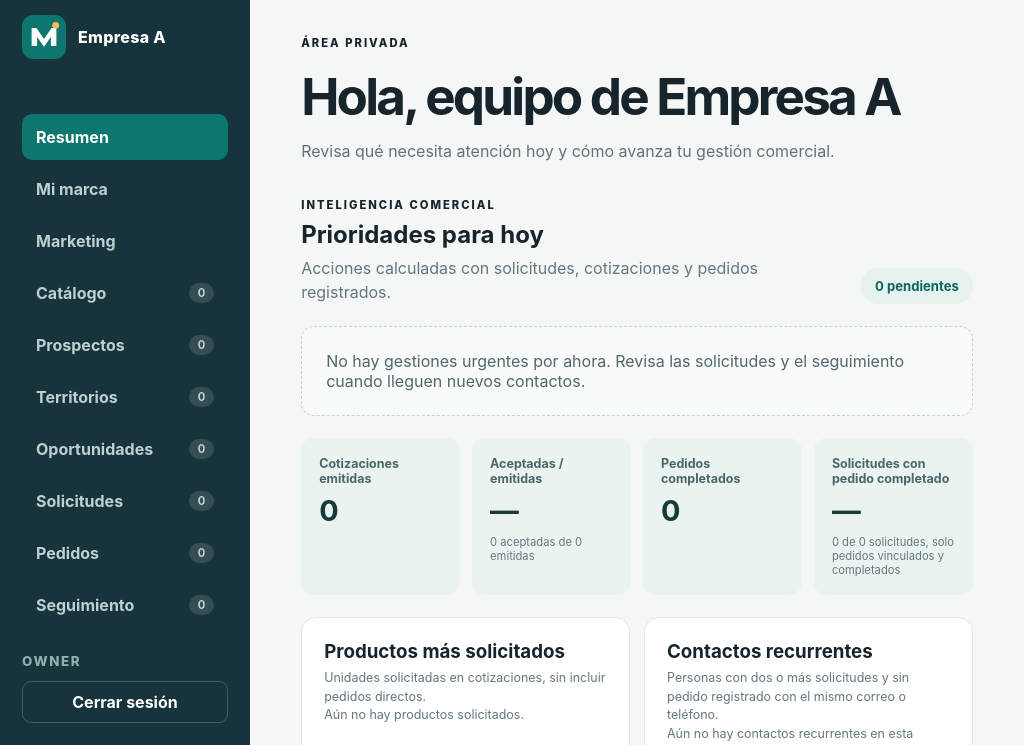
Test: multi-tenant application routes › shows why an Instagram profile was not selected
Click the button "Prospectos 0" at (125, 345), box [22, 322, 228, 368]
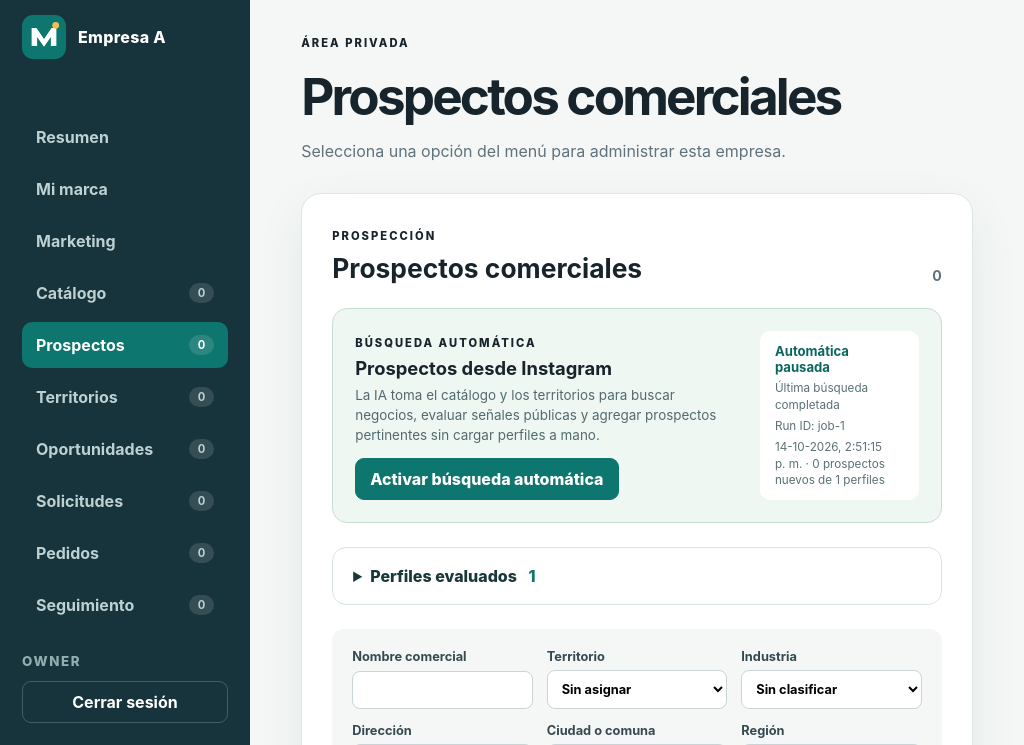
Click the heading "Perfiles evaluados 1" at (453, 576), box [370, 566, 536, 586]
(page scrolled)
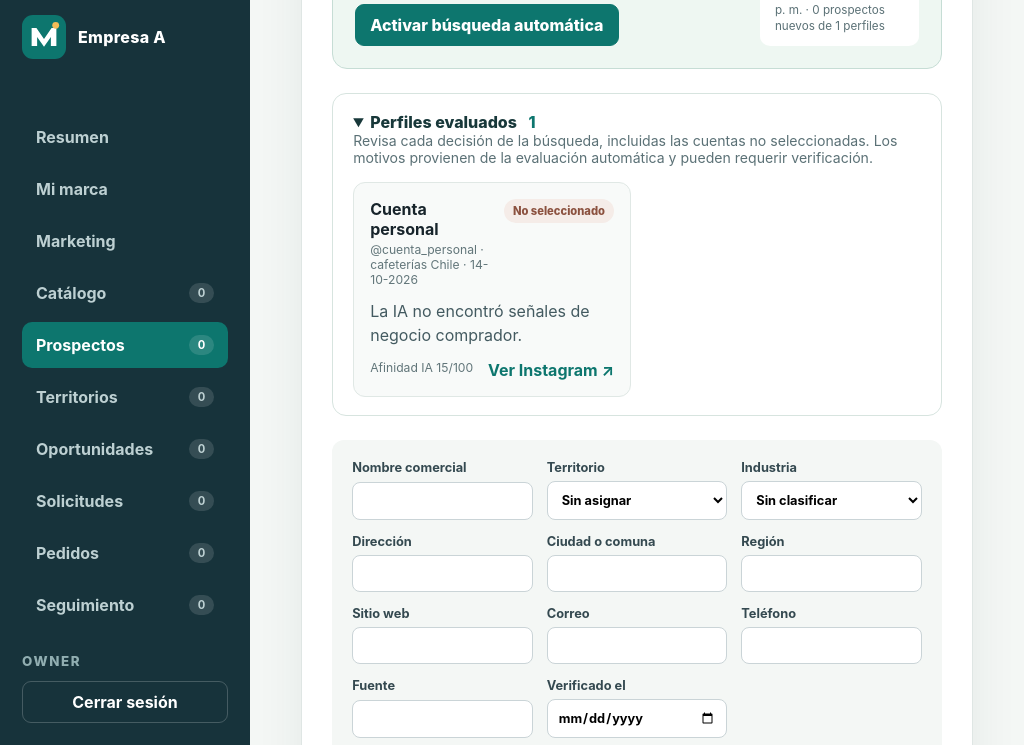
Expected: the text "La IA no encontró señales de negocio comprador." is shown, [370, 300, 614, 347]
Expected: the text "No seleccionado" is shown, [504, 200, 614, 224]
